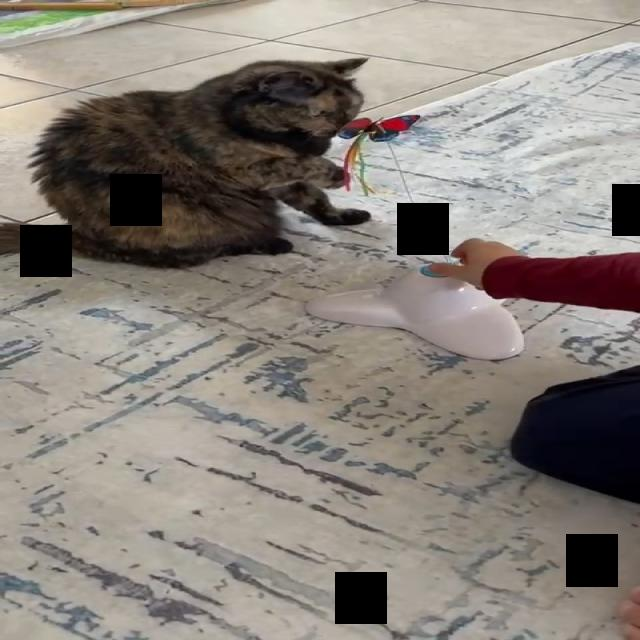authorized: (0, 56, 372, 269)
